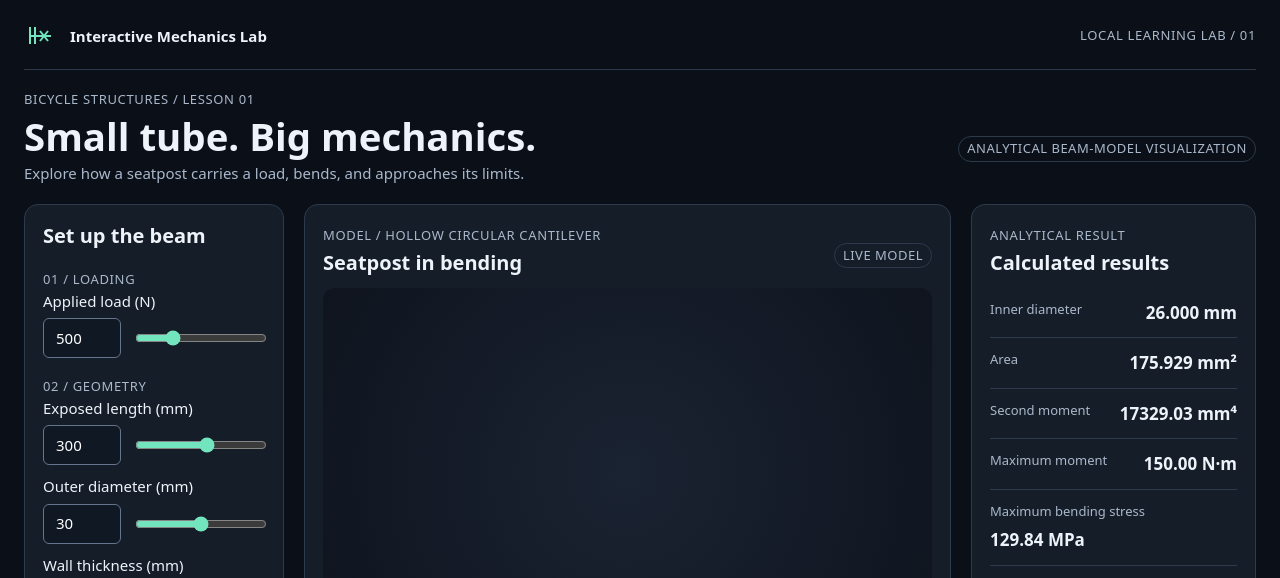
Scenario: learning application integration › does not teach a unique clamp peak in an unloaded case
Step 1. Replace the text in the number field labelled "Applied load (N)" with "0" → [82, 338], box x1=43 y1=318 x2=121 y2=358
(page scrolled)
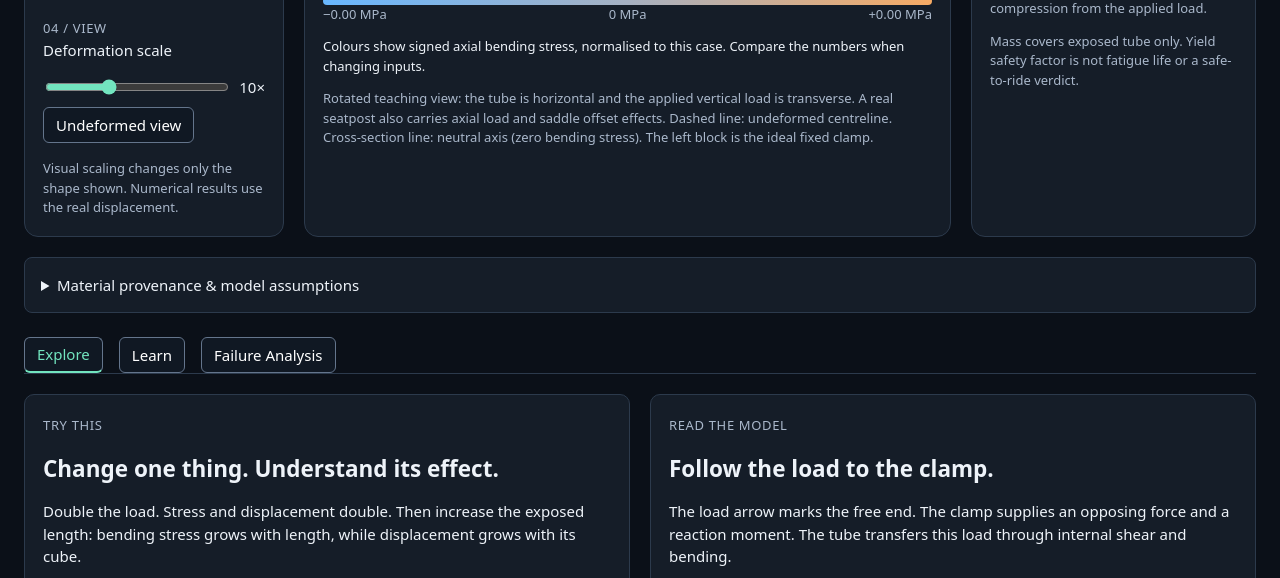
Step 2. Click the tab "Learn" → [152, 355], box x1=119 y1=337 x2=185 y2=373
(page scrolled)
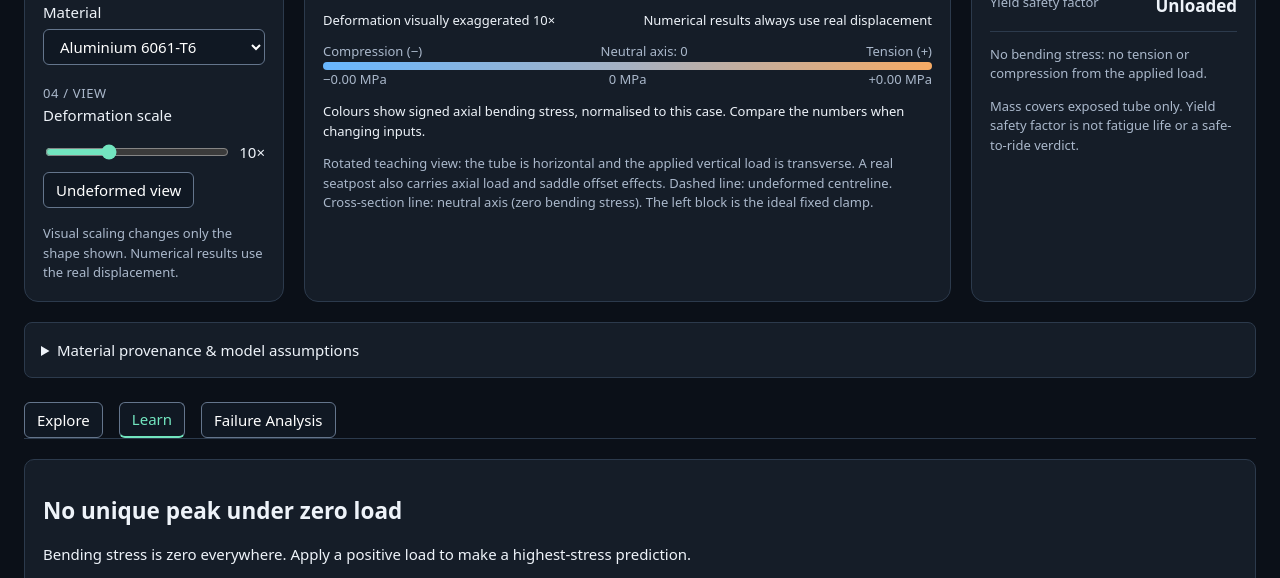
Expected: the heading "No unique peak under zero load" is shown, x1=43 y1=495 x2=402 y2=526
